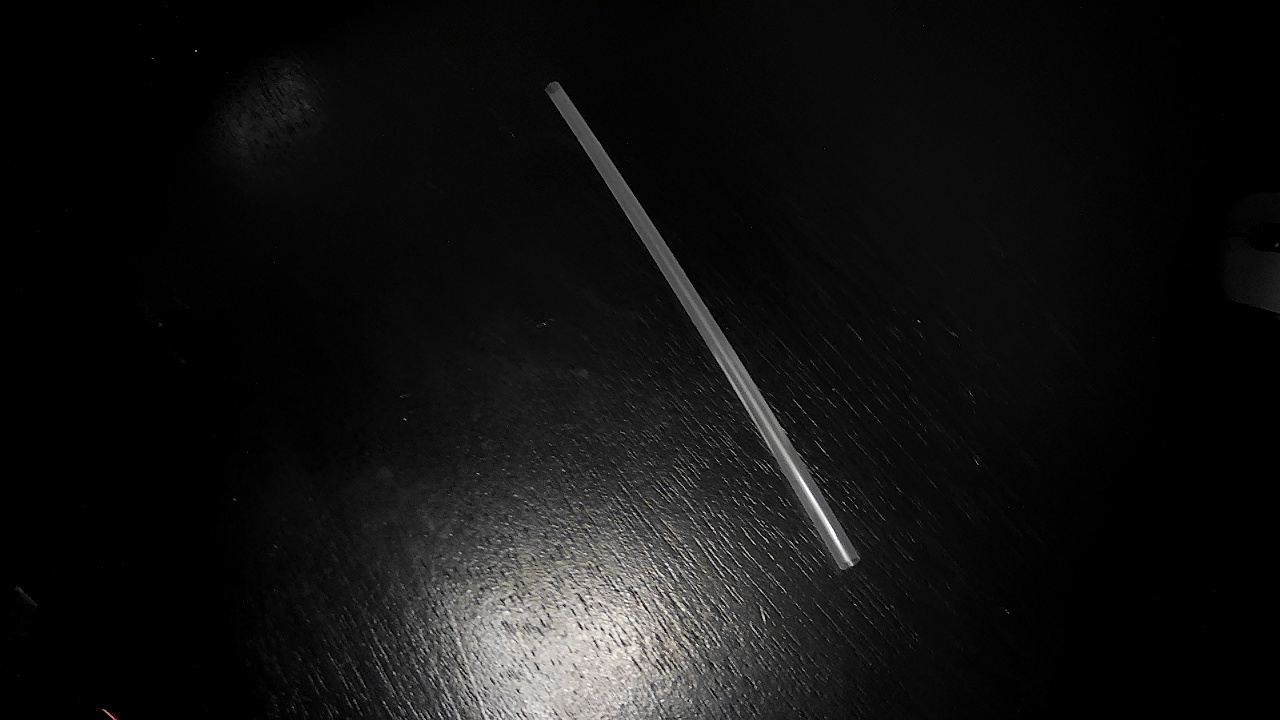trash: (516, 67, 926, 574)
